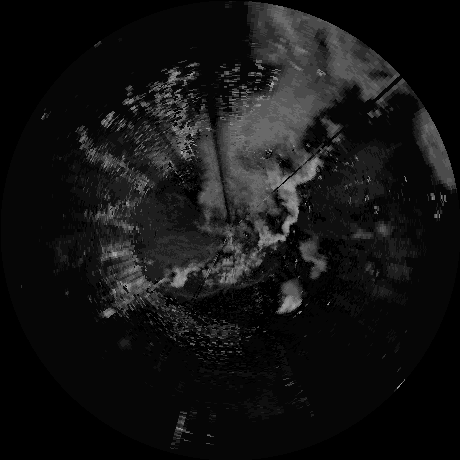frontgust: (166, 288, 222, 300)
